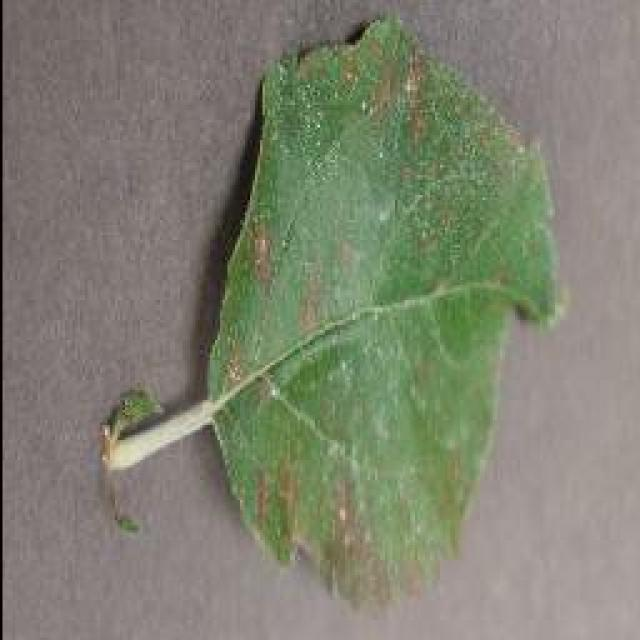apple scab disease: (97, 10, 565, 610)
